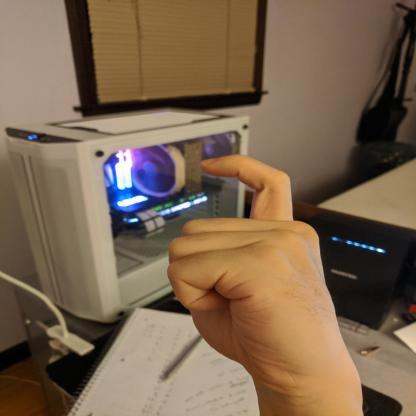X: (161, 151, 366, 387)
